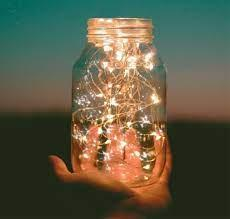Lamp: (69, 10, 169, 190)
